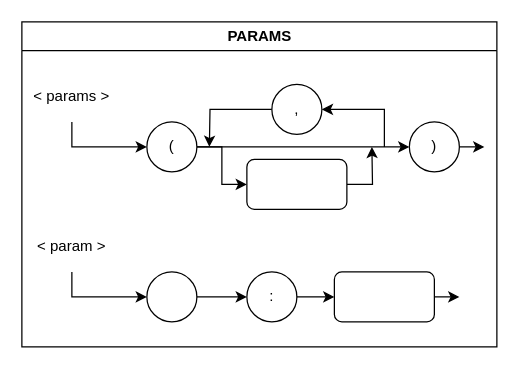
Some shapes in this 519 by 369 pixel diagram are drawn without their labels. The box of each missing label's shape, as (x1, y1, x2, y2) in pixels:
id: (146, 271, 197, 322)
param: (246, 158, 347, 209)
type: (333, 271, 434, 322)
